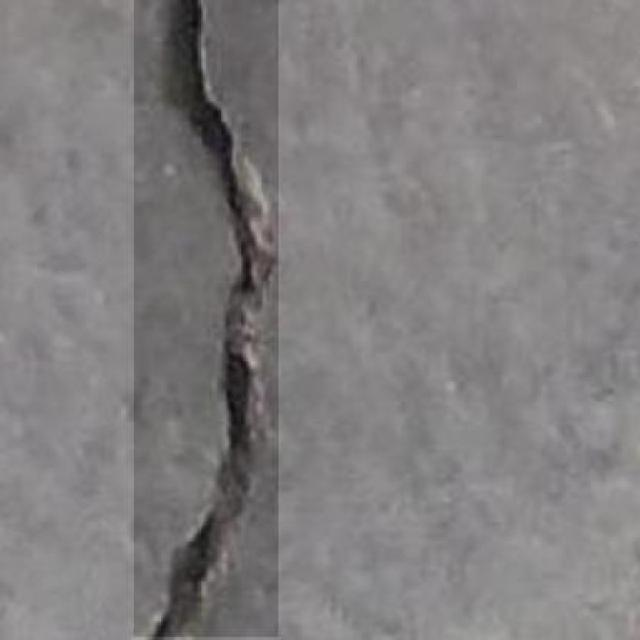Crack: (136, 0, 286, 640)
